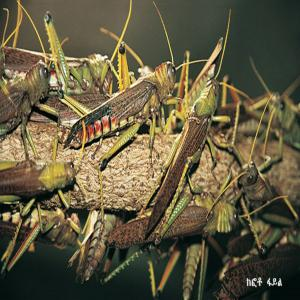locust: (136, 76, 244, 225), (72, 47, 191, 160), (1, 142, 90, 207)
